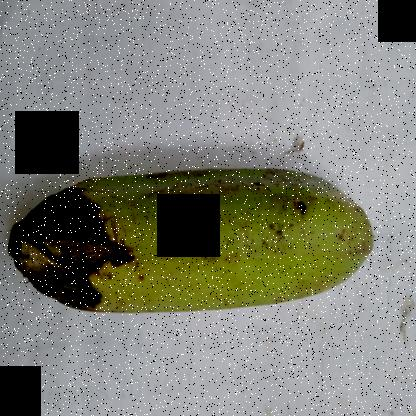rotten: (0, 181, 149, 357)
unripe: (124, 163, 368, 321)
